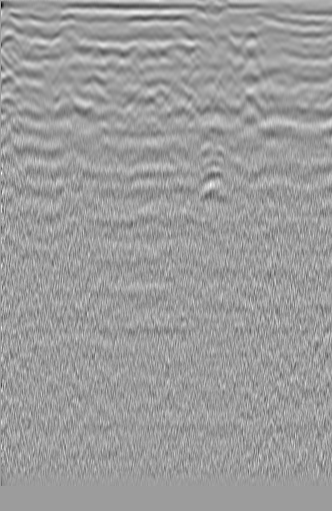가스: (193, 162, 231, 194)
상수: (293, 62, 323, 84)
오수: (0, 26, 29, 65)
우수: (134, 40, 168, 69)
